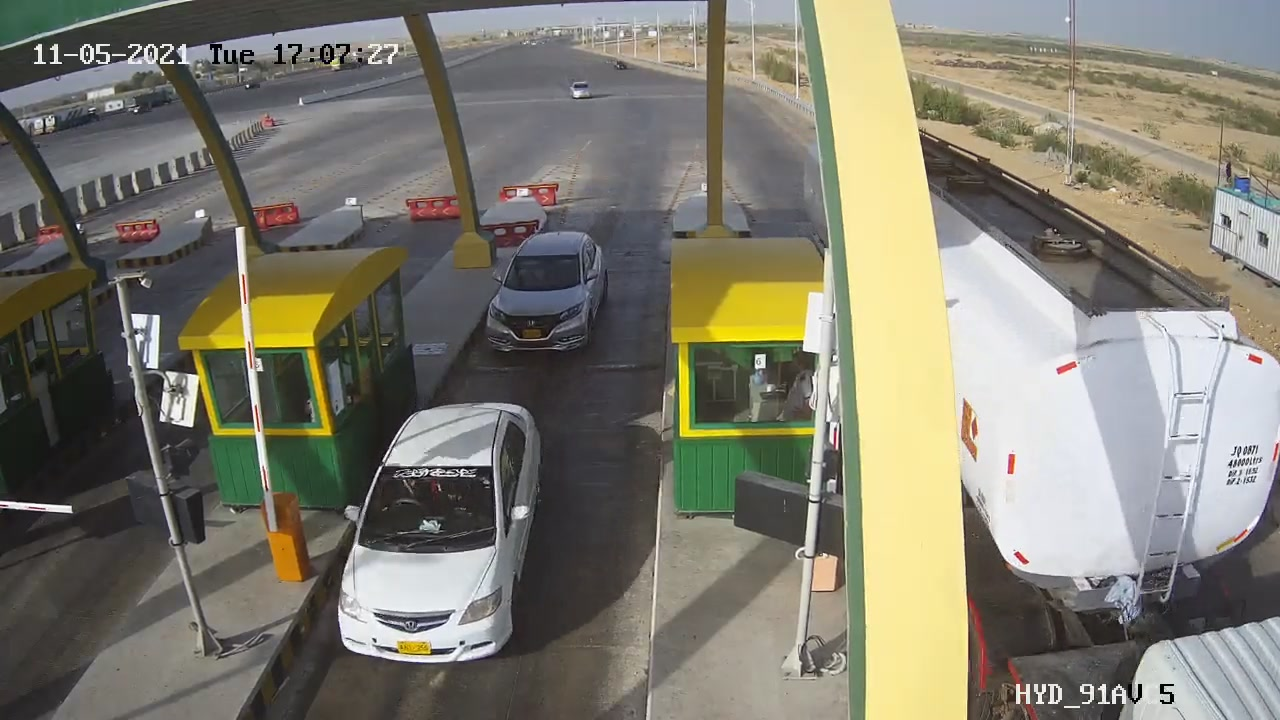F1: (468, 218, 627, 375)
